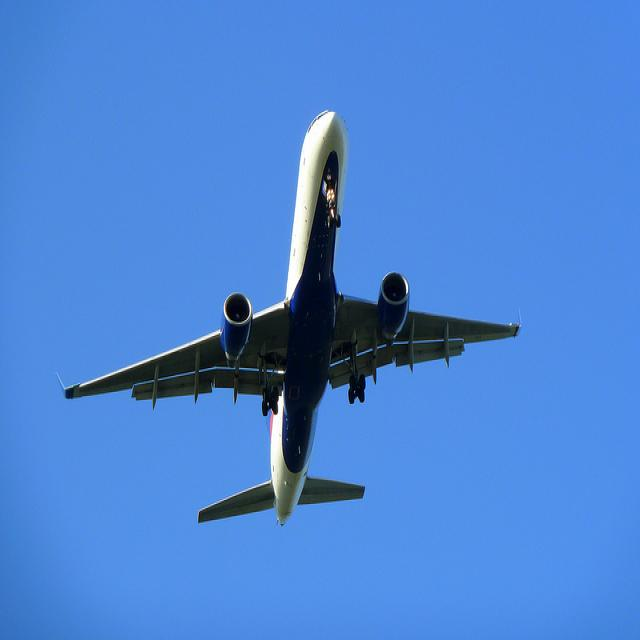airplane: (54, 107, 524, 529)
